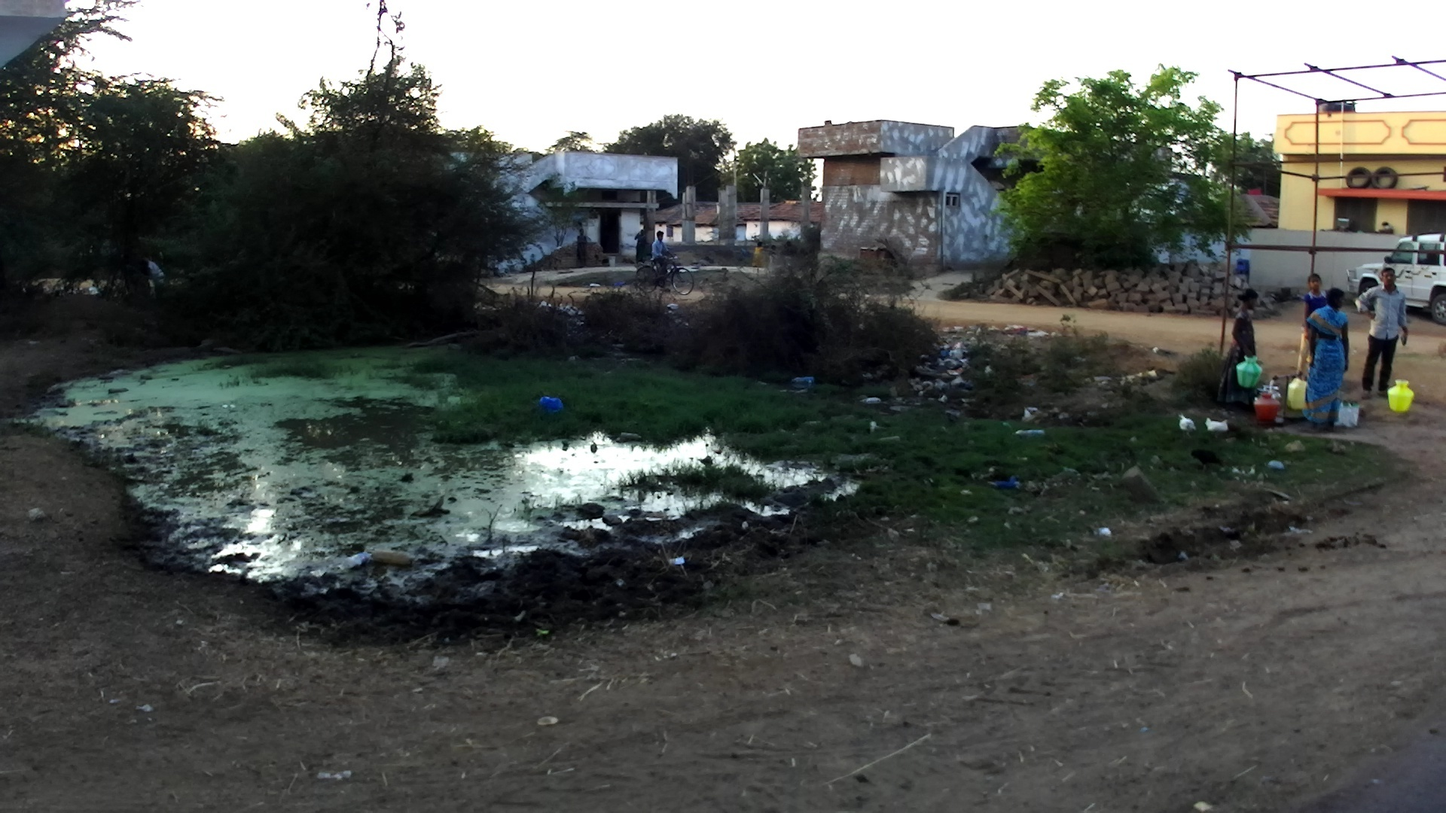bicycle: (634, 254, 694, 294)
car: (1346, 231, 1446, 324), (634, 230, 646, 264)
person: (1353, 266, 1410, 400), (1302, 286, 1351, 433), (1213, 287, 1259, 412), (1293, 272, 1327, 378), (574, 227, 590, 268), (751, 240, 764, 266), (783, 241, 795, 267), (767, 244, 779, 266)
rider: (651, 231, 673, 282)
